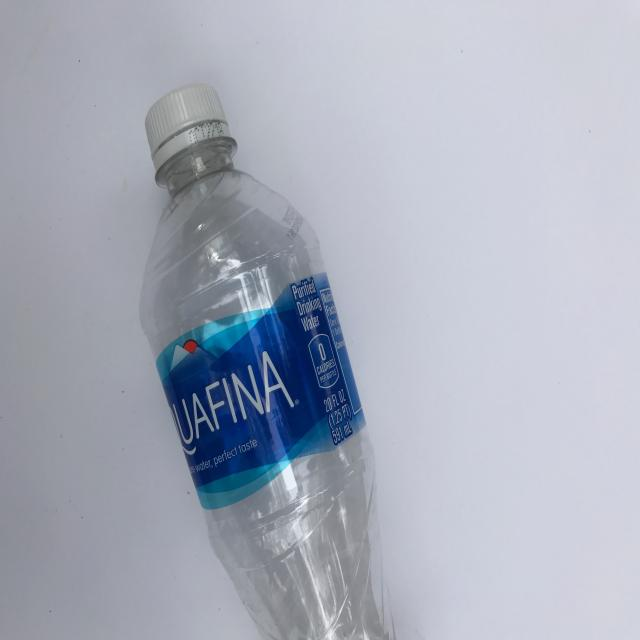plastic: (138, 81, 401, 640)
